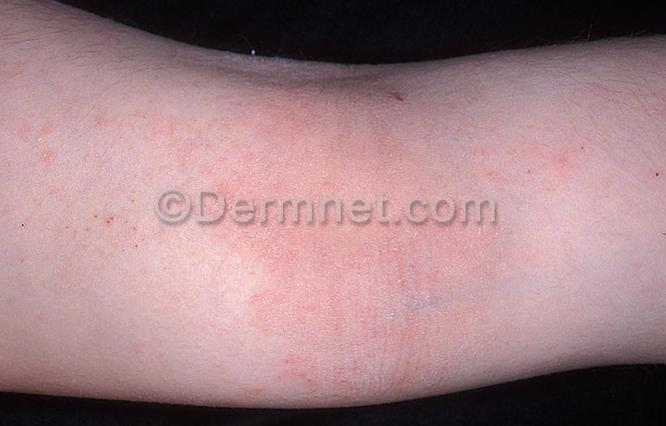eritema 1: (200, 49, 505, 395)
xerosis 1: (196, 44, 426, 85)
